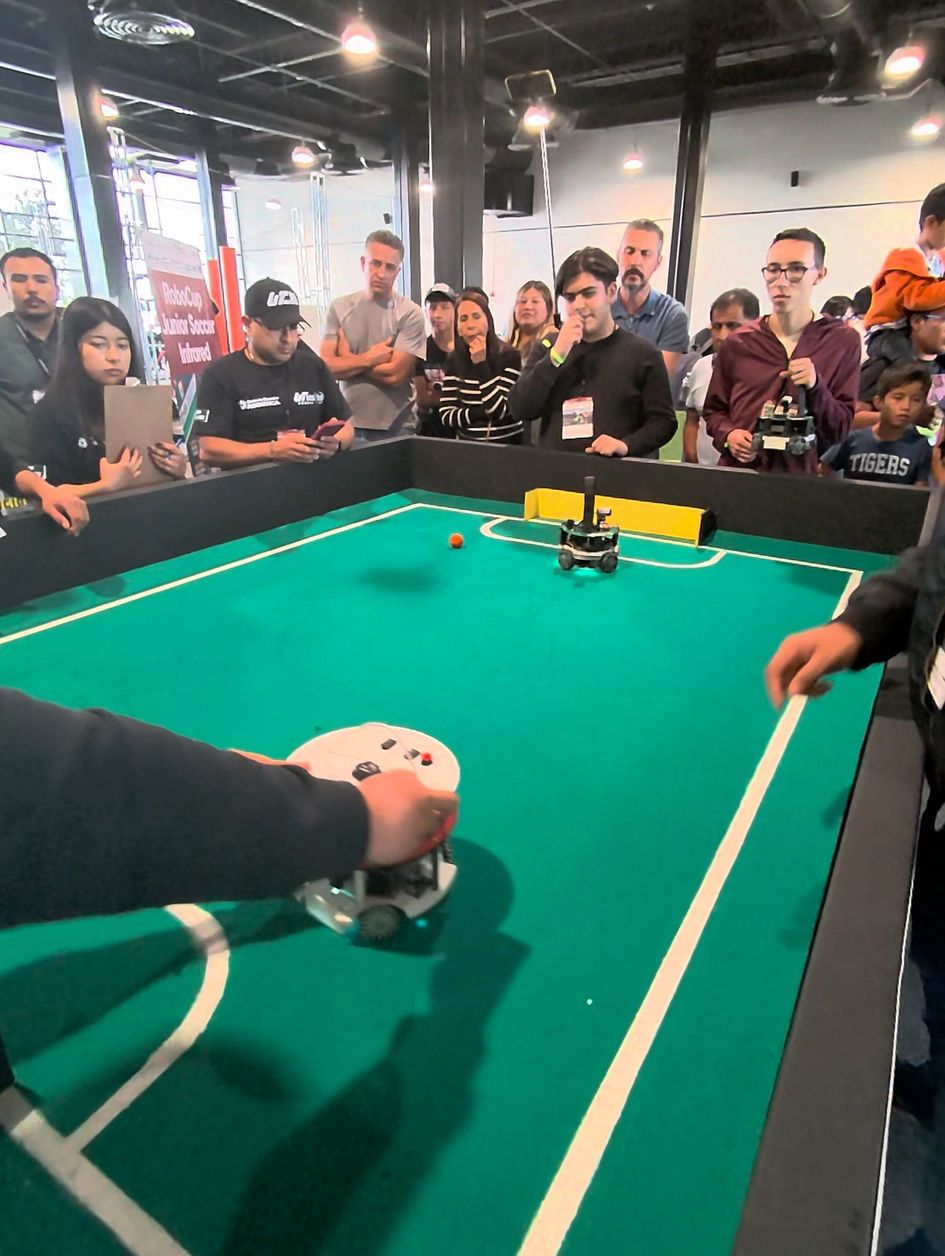Robot: (309, 696, 466, 964), (552, 485, 625, 586)
pelota: (448, 535, 466, 550)
